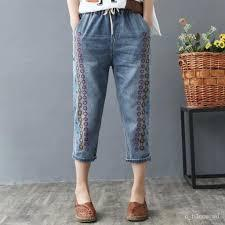pants: (68, 4, 162, 168)
